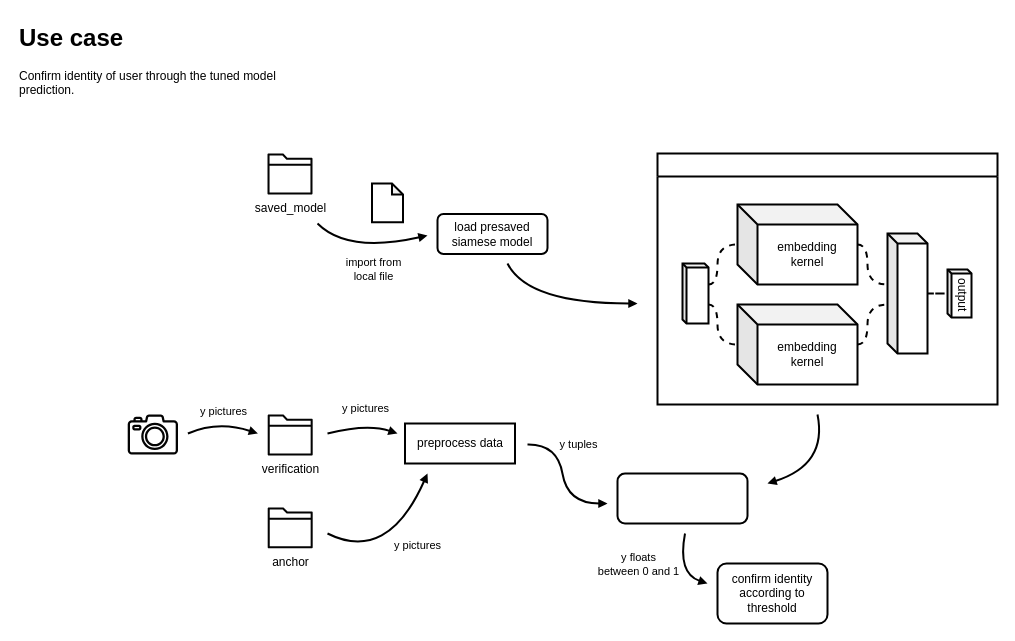
Image size: 1015x641. Some labels were removed from this diagram. The box of each missing label's shape, as (x1, y1, x2, y2) in pixels:
.h5: (370, 182, 404, 223)
classifier: (886, 232, 928, 354)
input: (681, 262, 709, 324)
predict label: (616, 472, 748, 524)
Siamese model: (656, 152, 998, 405)
